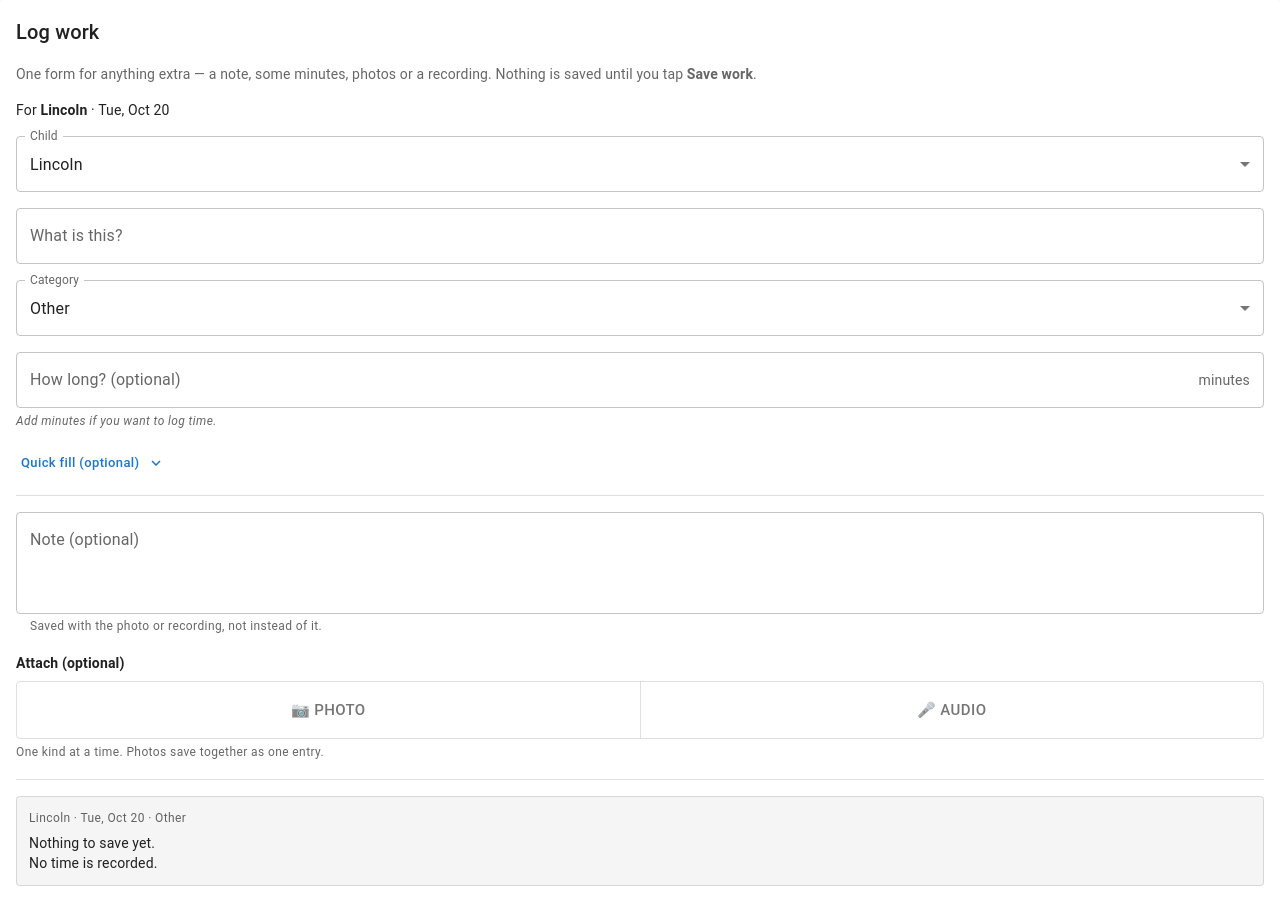
Test: LogWorkCard — the form says what it is and what it will do › summarises the save before the tap, and keeps the summary true
Expected: the text "Nothing to save yet." is shown, [29,835,155,851]
Expected: the text "No time is recorded." is shown, [29,855,158,871]
Step 1. Type "20" into the number field named "Duration in minutes" → coordinates (603, 380), box [16,352,1191,408]
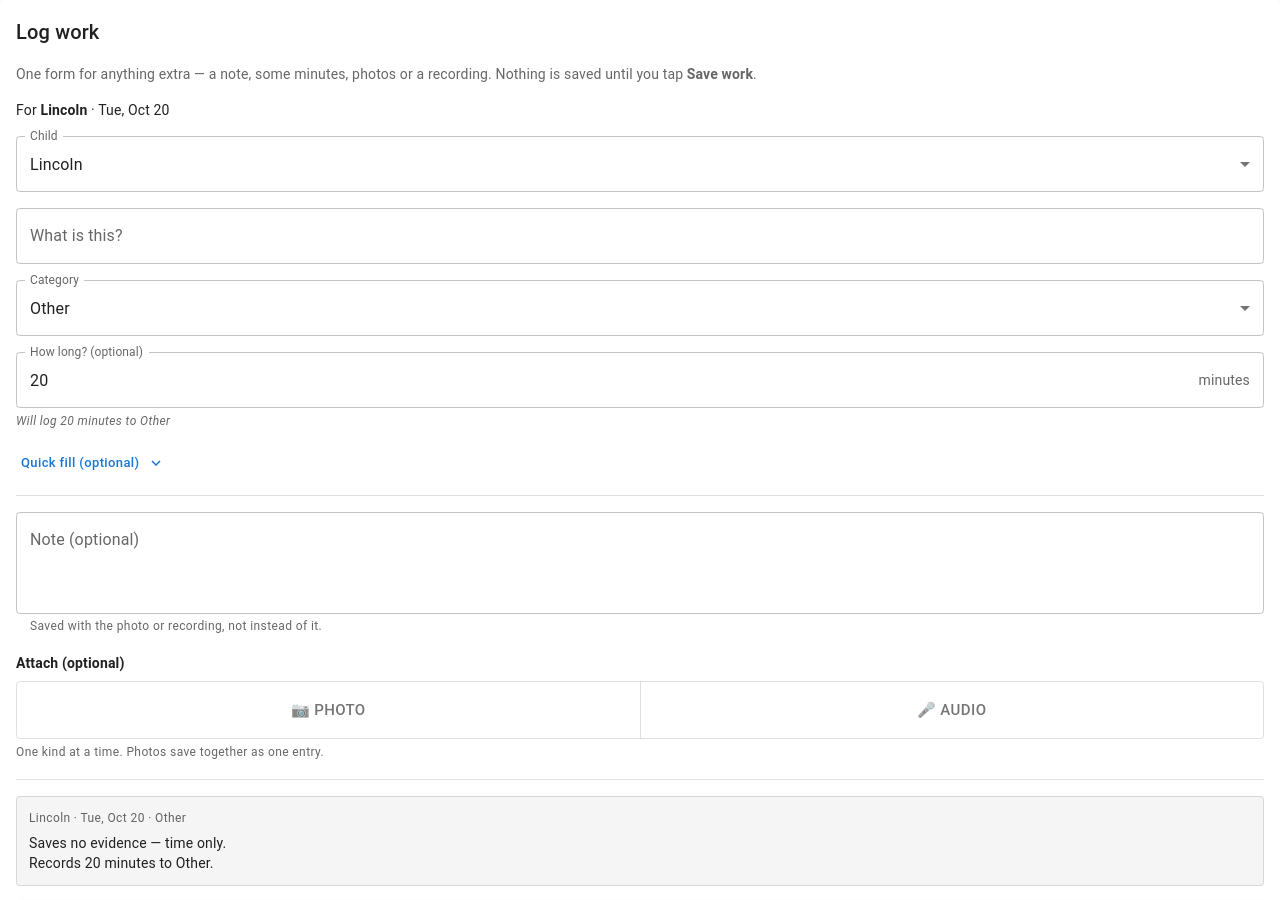
Now the text "Saves no evidence — time only." is shown, box [29,835,226,851]
Step 2. Clear the number field named "Duration in minutes" → coordinates (603, 380), box [16,352,1191,408]
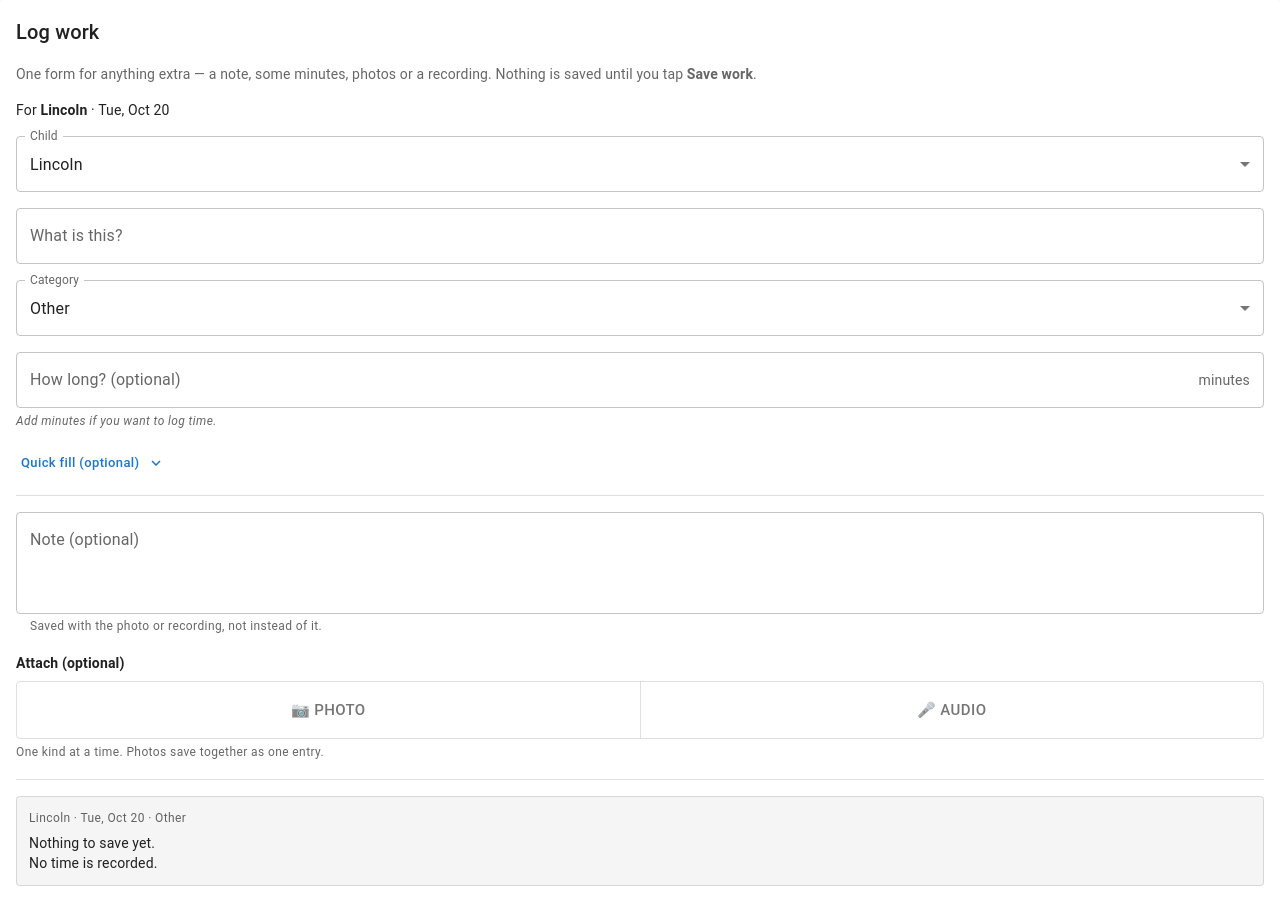
Step 3. Type "Rome day" into the text box labelled "Note (optional)" → coordinates (640, 563), box [30,528,1250,597]
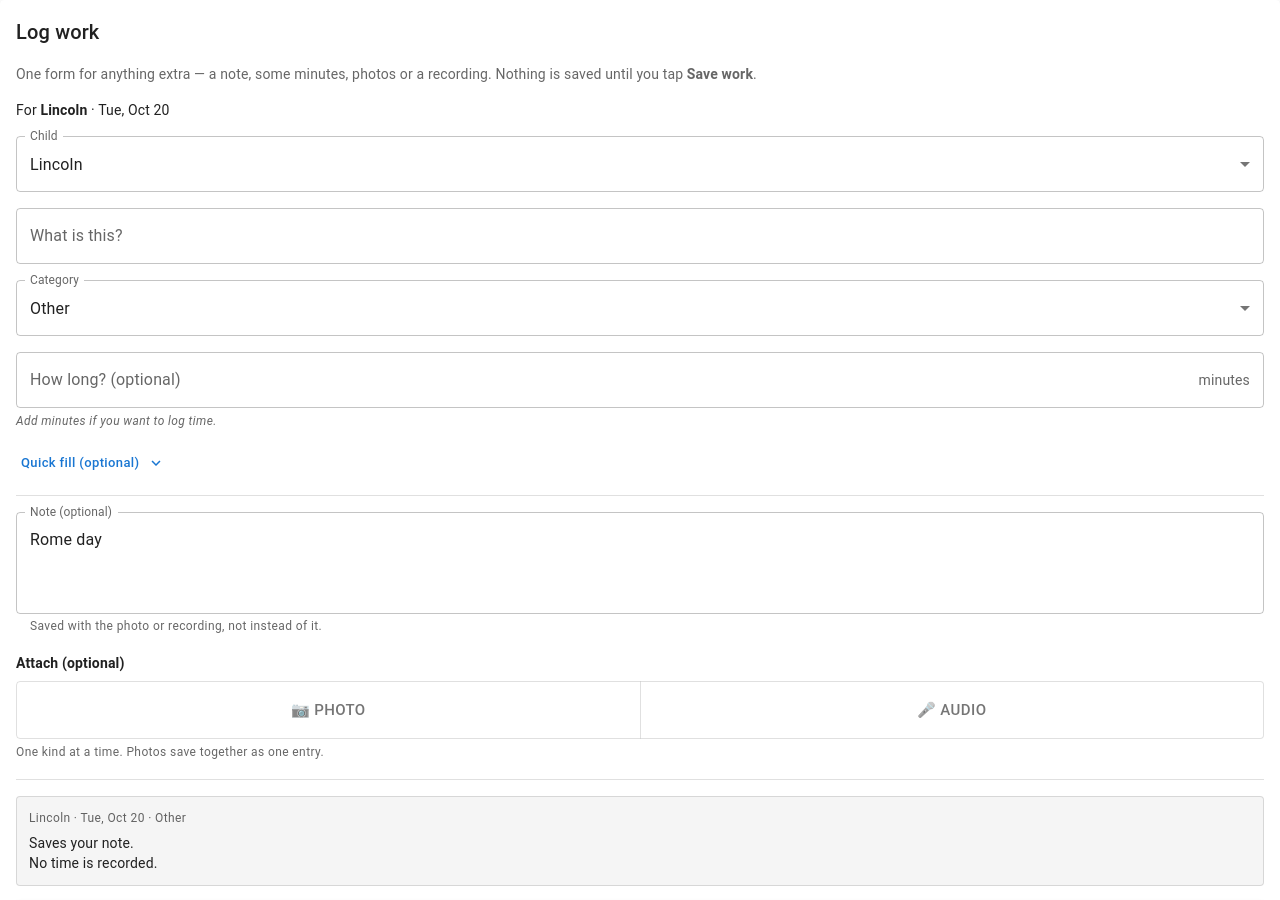
Step 4. Type "45" into the number field named "Duration in minutes" → coordinates (603, 380), box [16,352,1191,408]
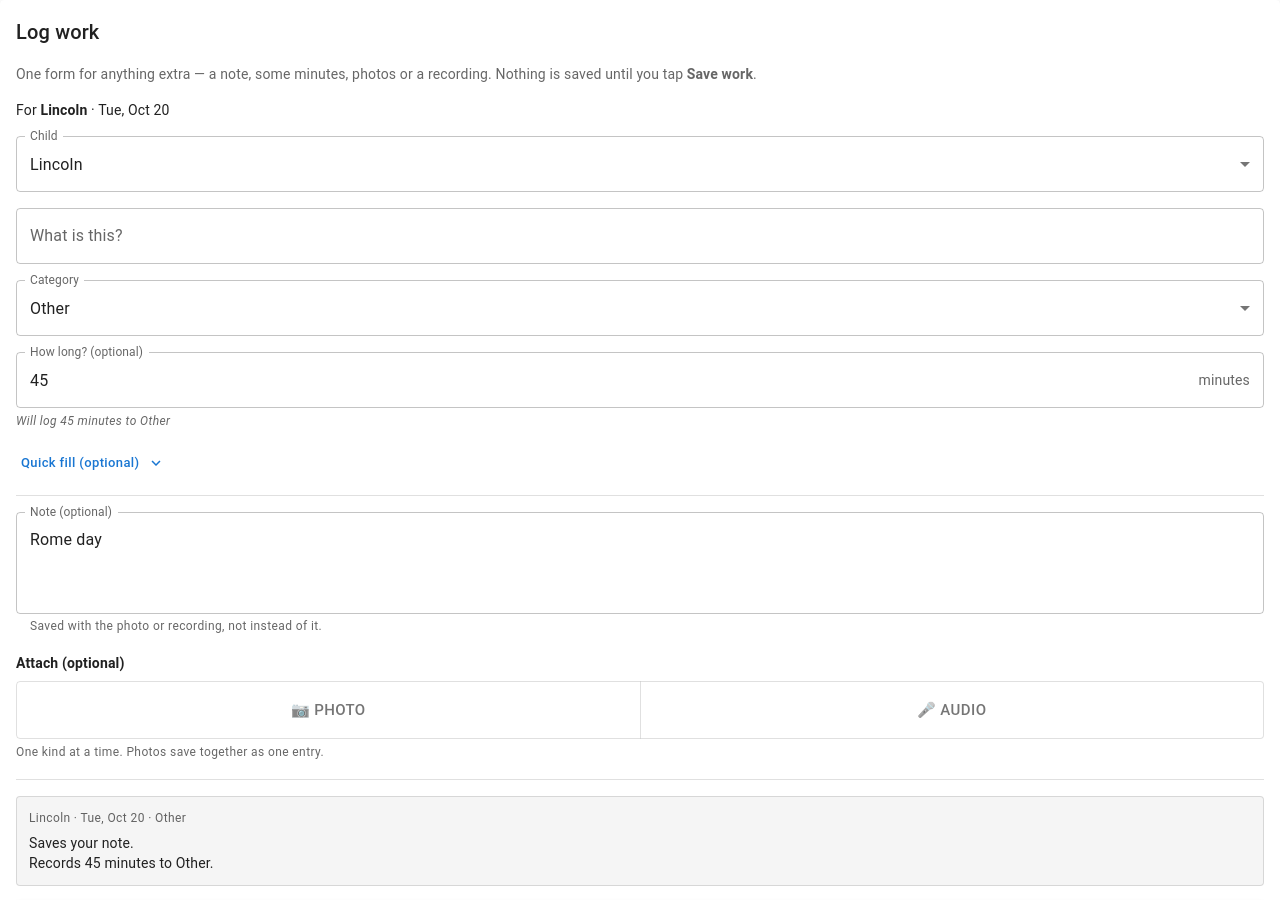
Now the text "Saves your note." is shown, box [29,835,134,851]
Now the text "Records 45 minutes to Other." is shown, box [29,855,214,871]
